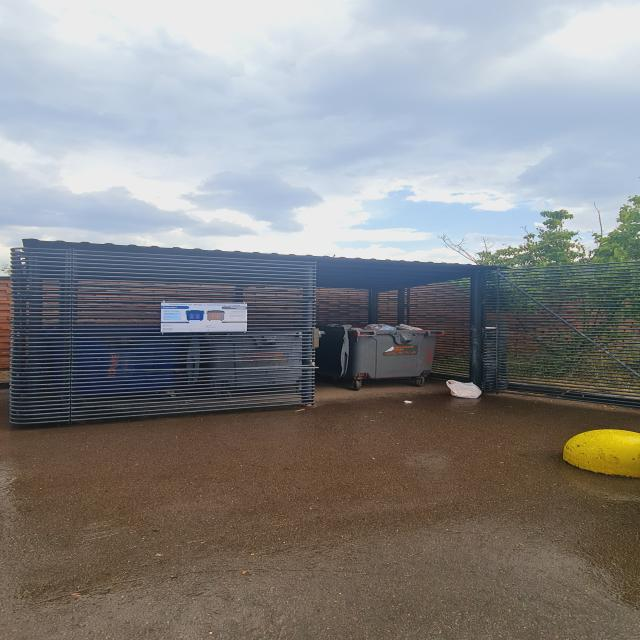bin: (310, 331, 444, 380)
plastic: (446, 381, 485, 400), (325, 323, 424, 330)
